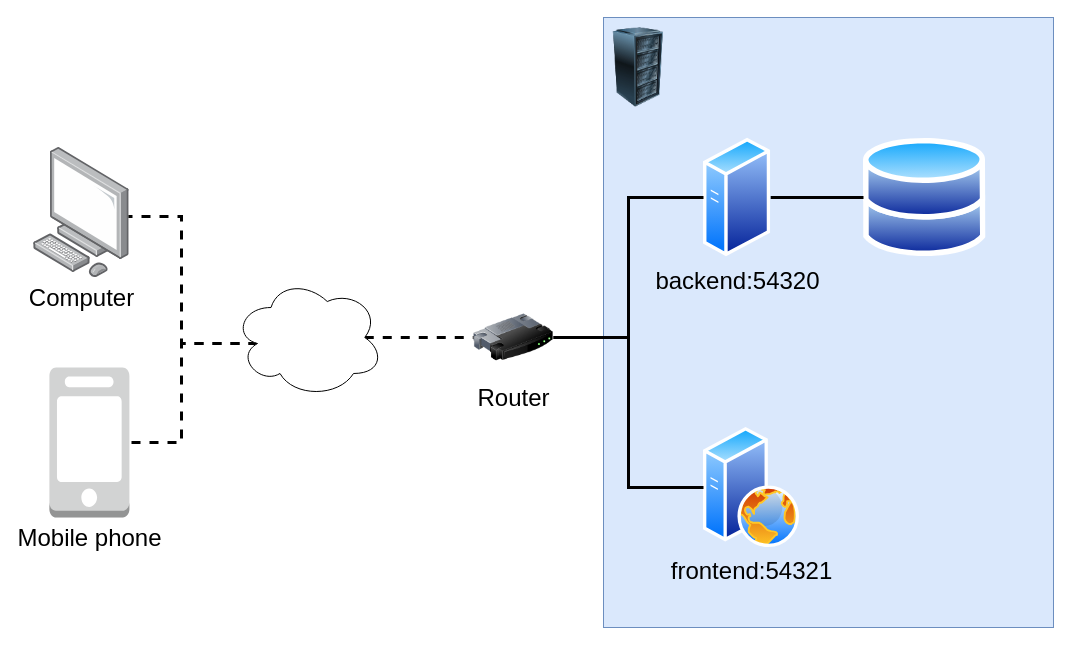
This 1071x645 diagram has some shape labels left out. The box of each missing label's shape, as (x1, y1, x2, y2) in pixels:
database:3306: (863, 137, 986, 257)
Internet: (232, 276, 384, 398)
